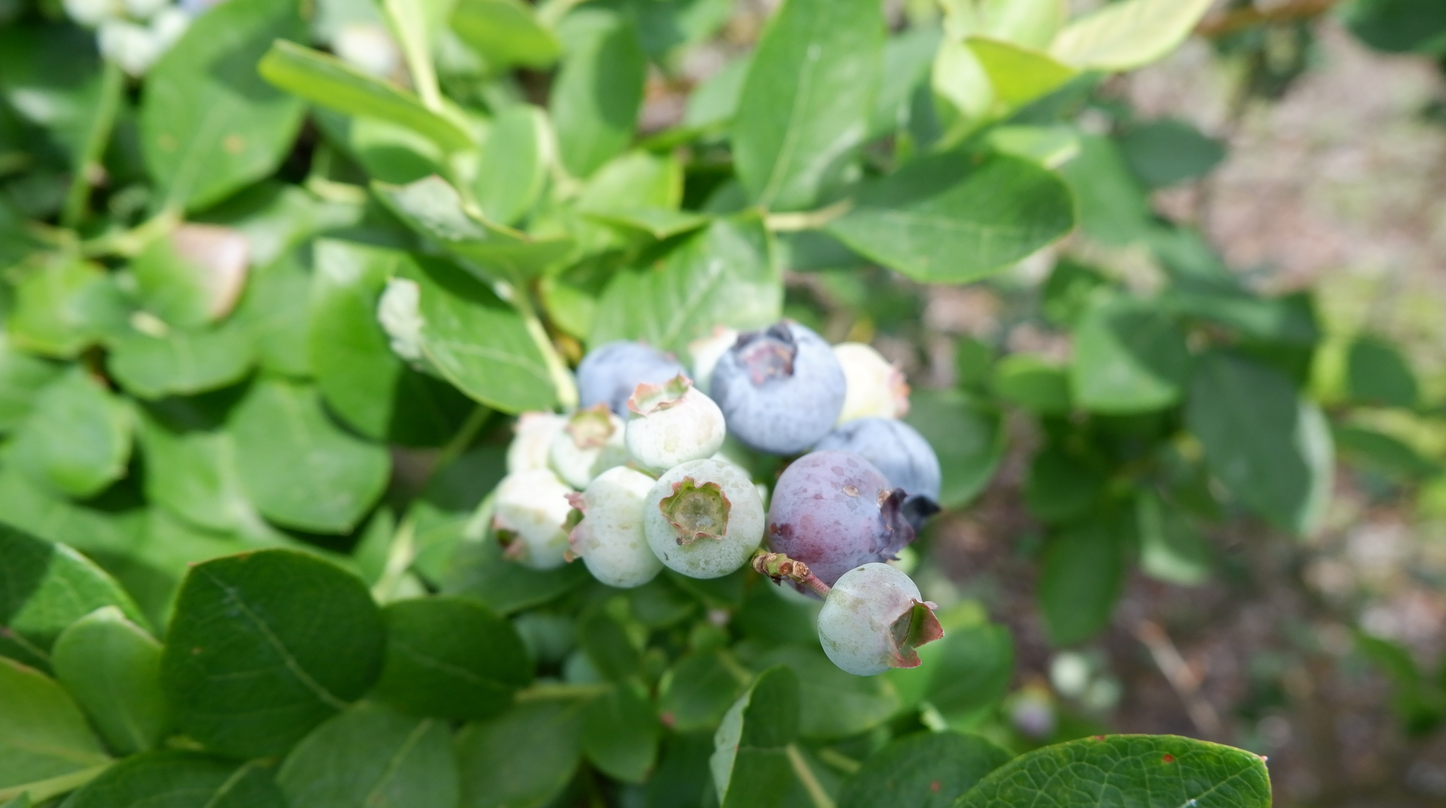Immature: (765, 456, 908, 601), (645, 464, 763, 576), (819, 567, 938, 675), (570, 470, 661, 586), (628, 379, 722, 471), (493, 468, 578, 566), (551, 407, 631, 487), (838, 345, 908, 428), (507, 413, 564, 471)
Mature: (711, 325, 846, 450), (806, 417, 944, 535), (577, 343, 681, 414)
